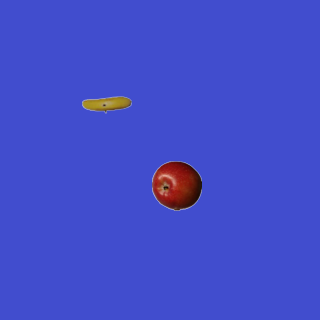Apple Braeburn: (151, 160, 201, 210)
Banana: (81, 79, 131, 129)
